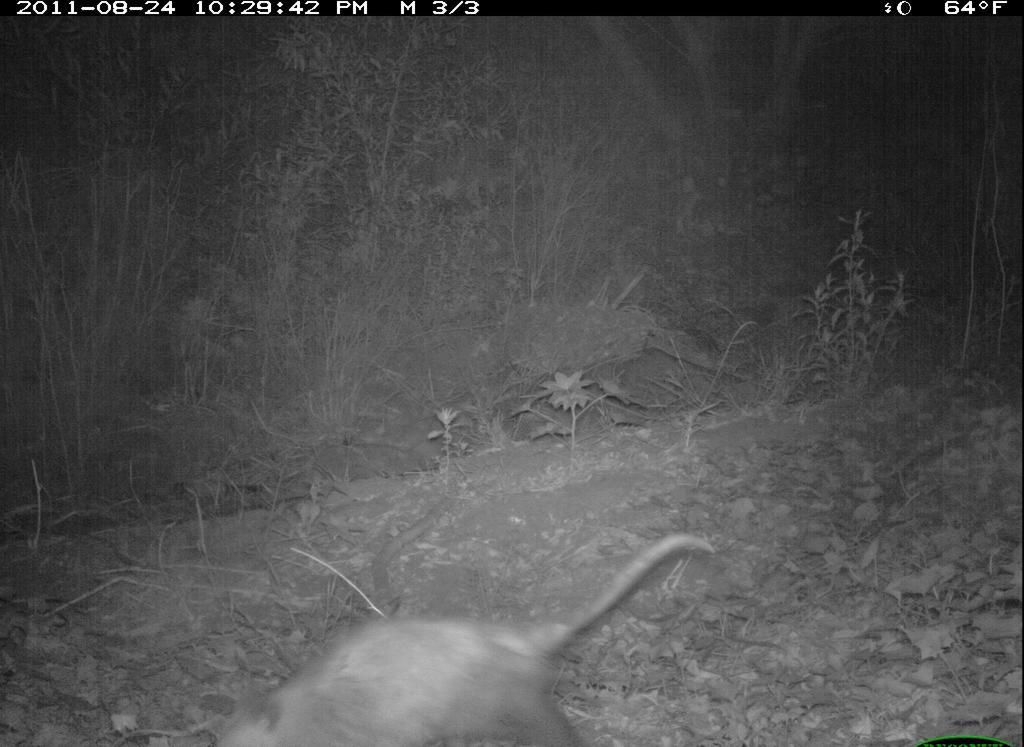opossum: (203, 530, 728, 747)
